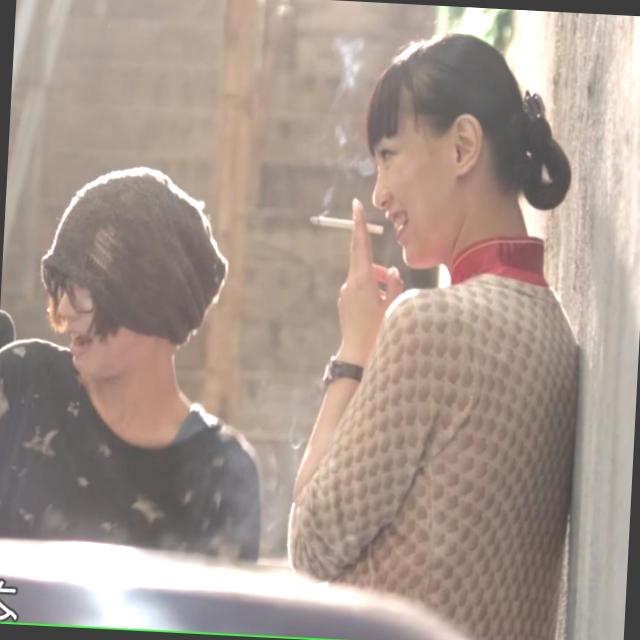cigarette: (308, 208, 344, 244)
